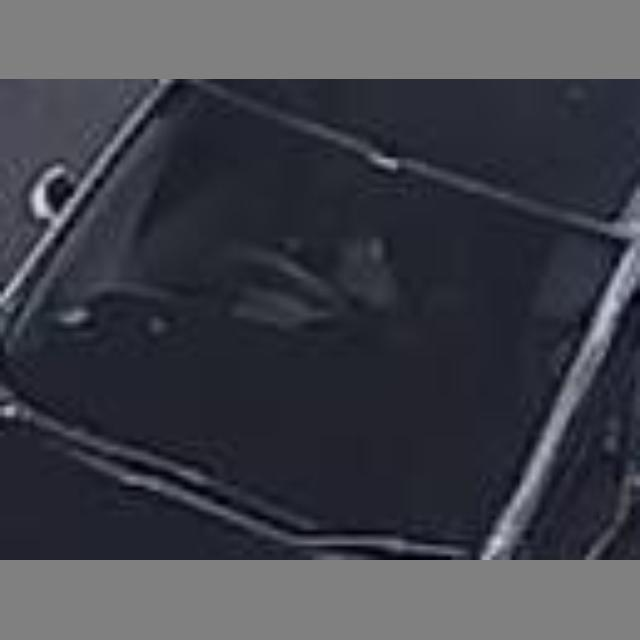pakai: (516, 228, 615, 387)
